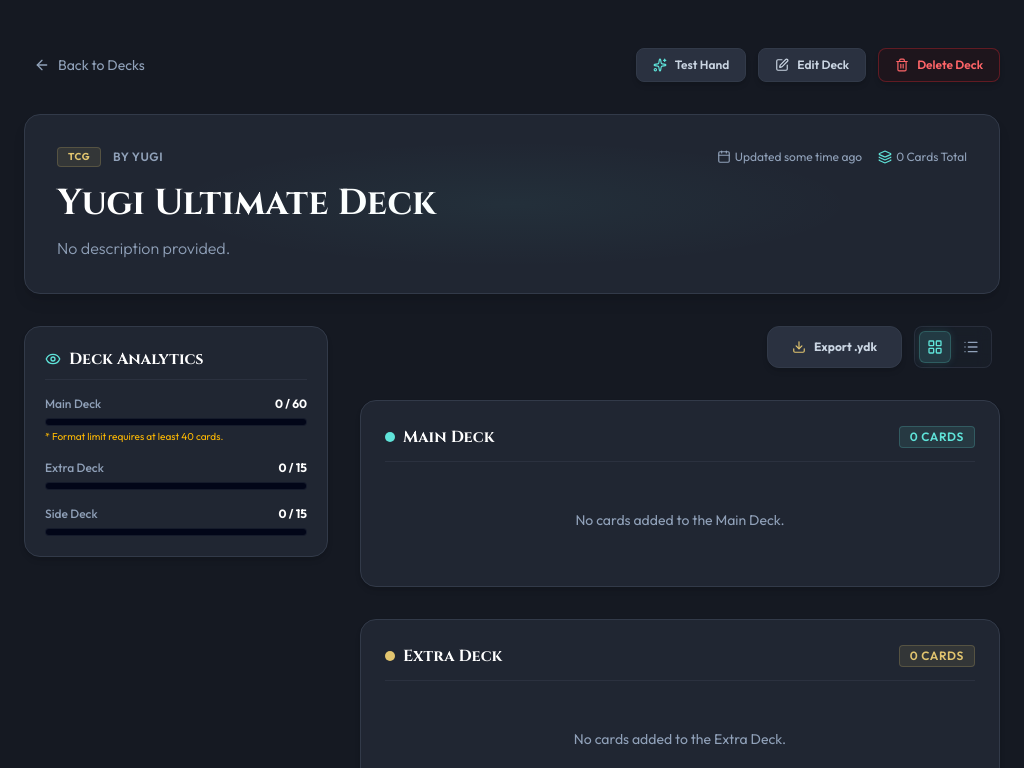
Test: DeckDetail page component › should display error message inside modal if deletion fails
Click the button "Delete Deck".
click(939, 65)  # box [878,48,1000,82]
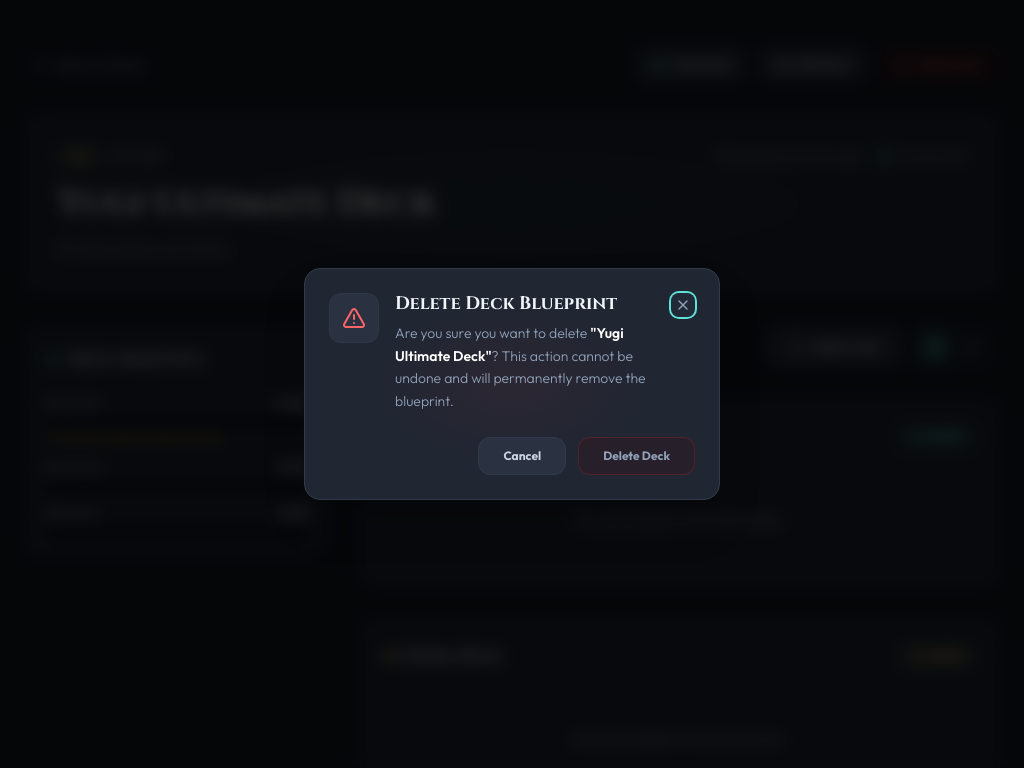
Now the heading "Delete Deck Blueprint" is shown, box [395,293,655,316]
Click the button "Delete Deck".
click(637, 456)  # box [578,437,695,475]
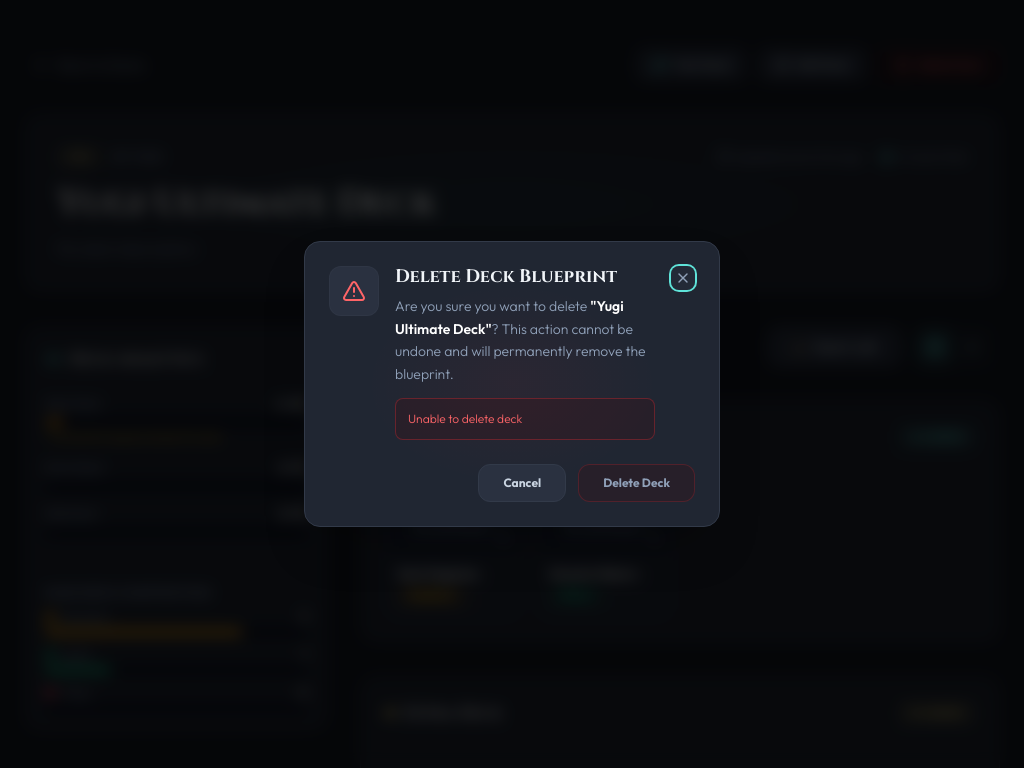
Now the heading "Delete Deck Blueprint" is shown, box [395,266,655,289]
Now the text "Unable to delete deck" is shown, box [395,398,655,440]
